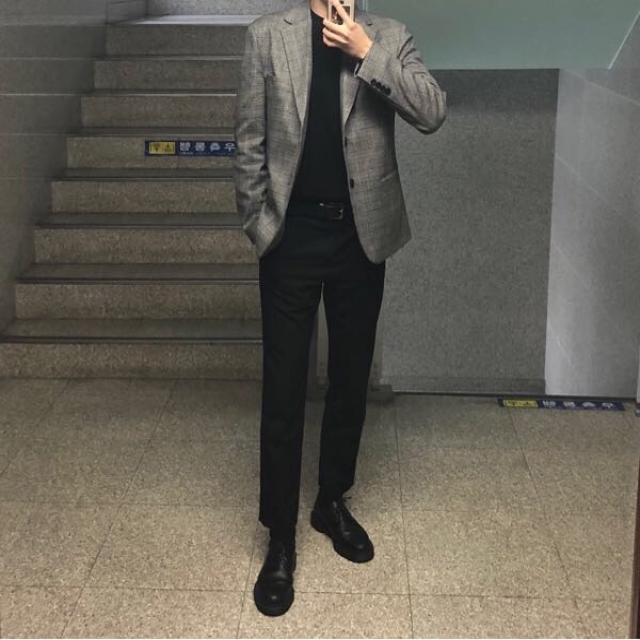blazer: (236, 0, 447, 267)
denimpants: (258, 202, 388, 528)
